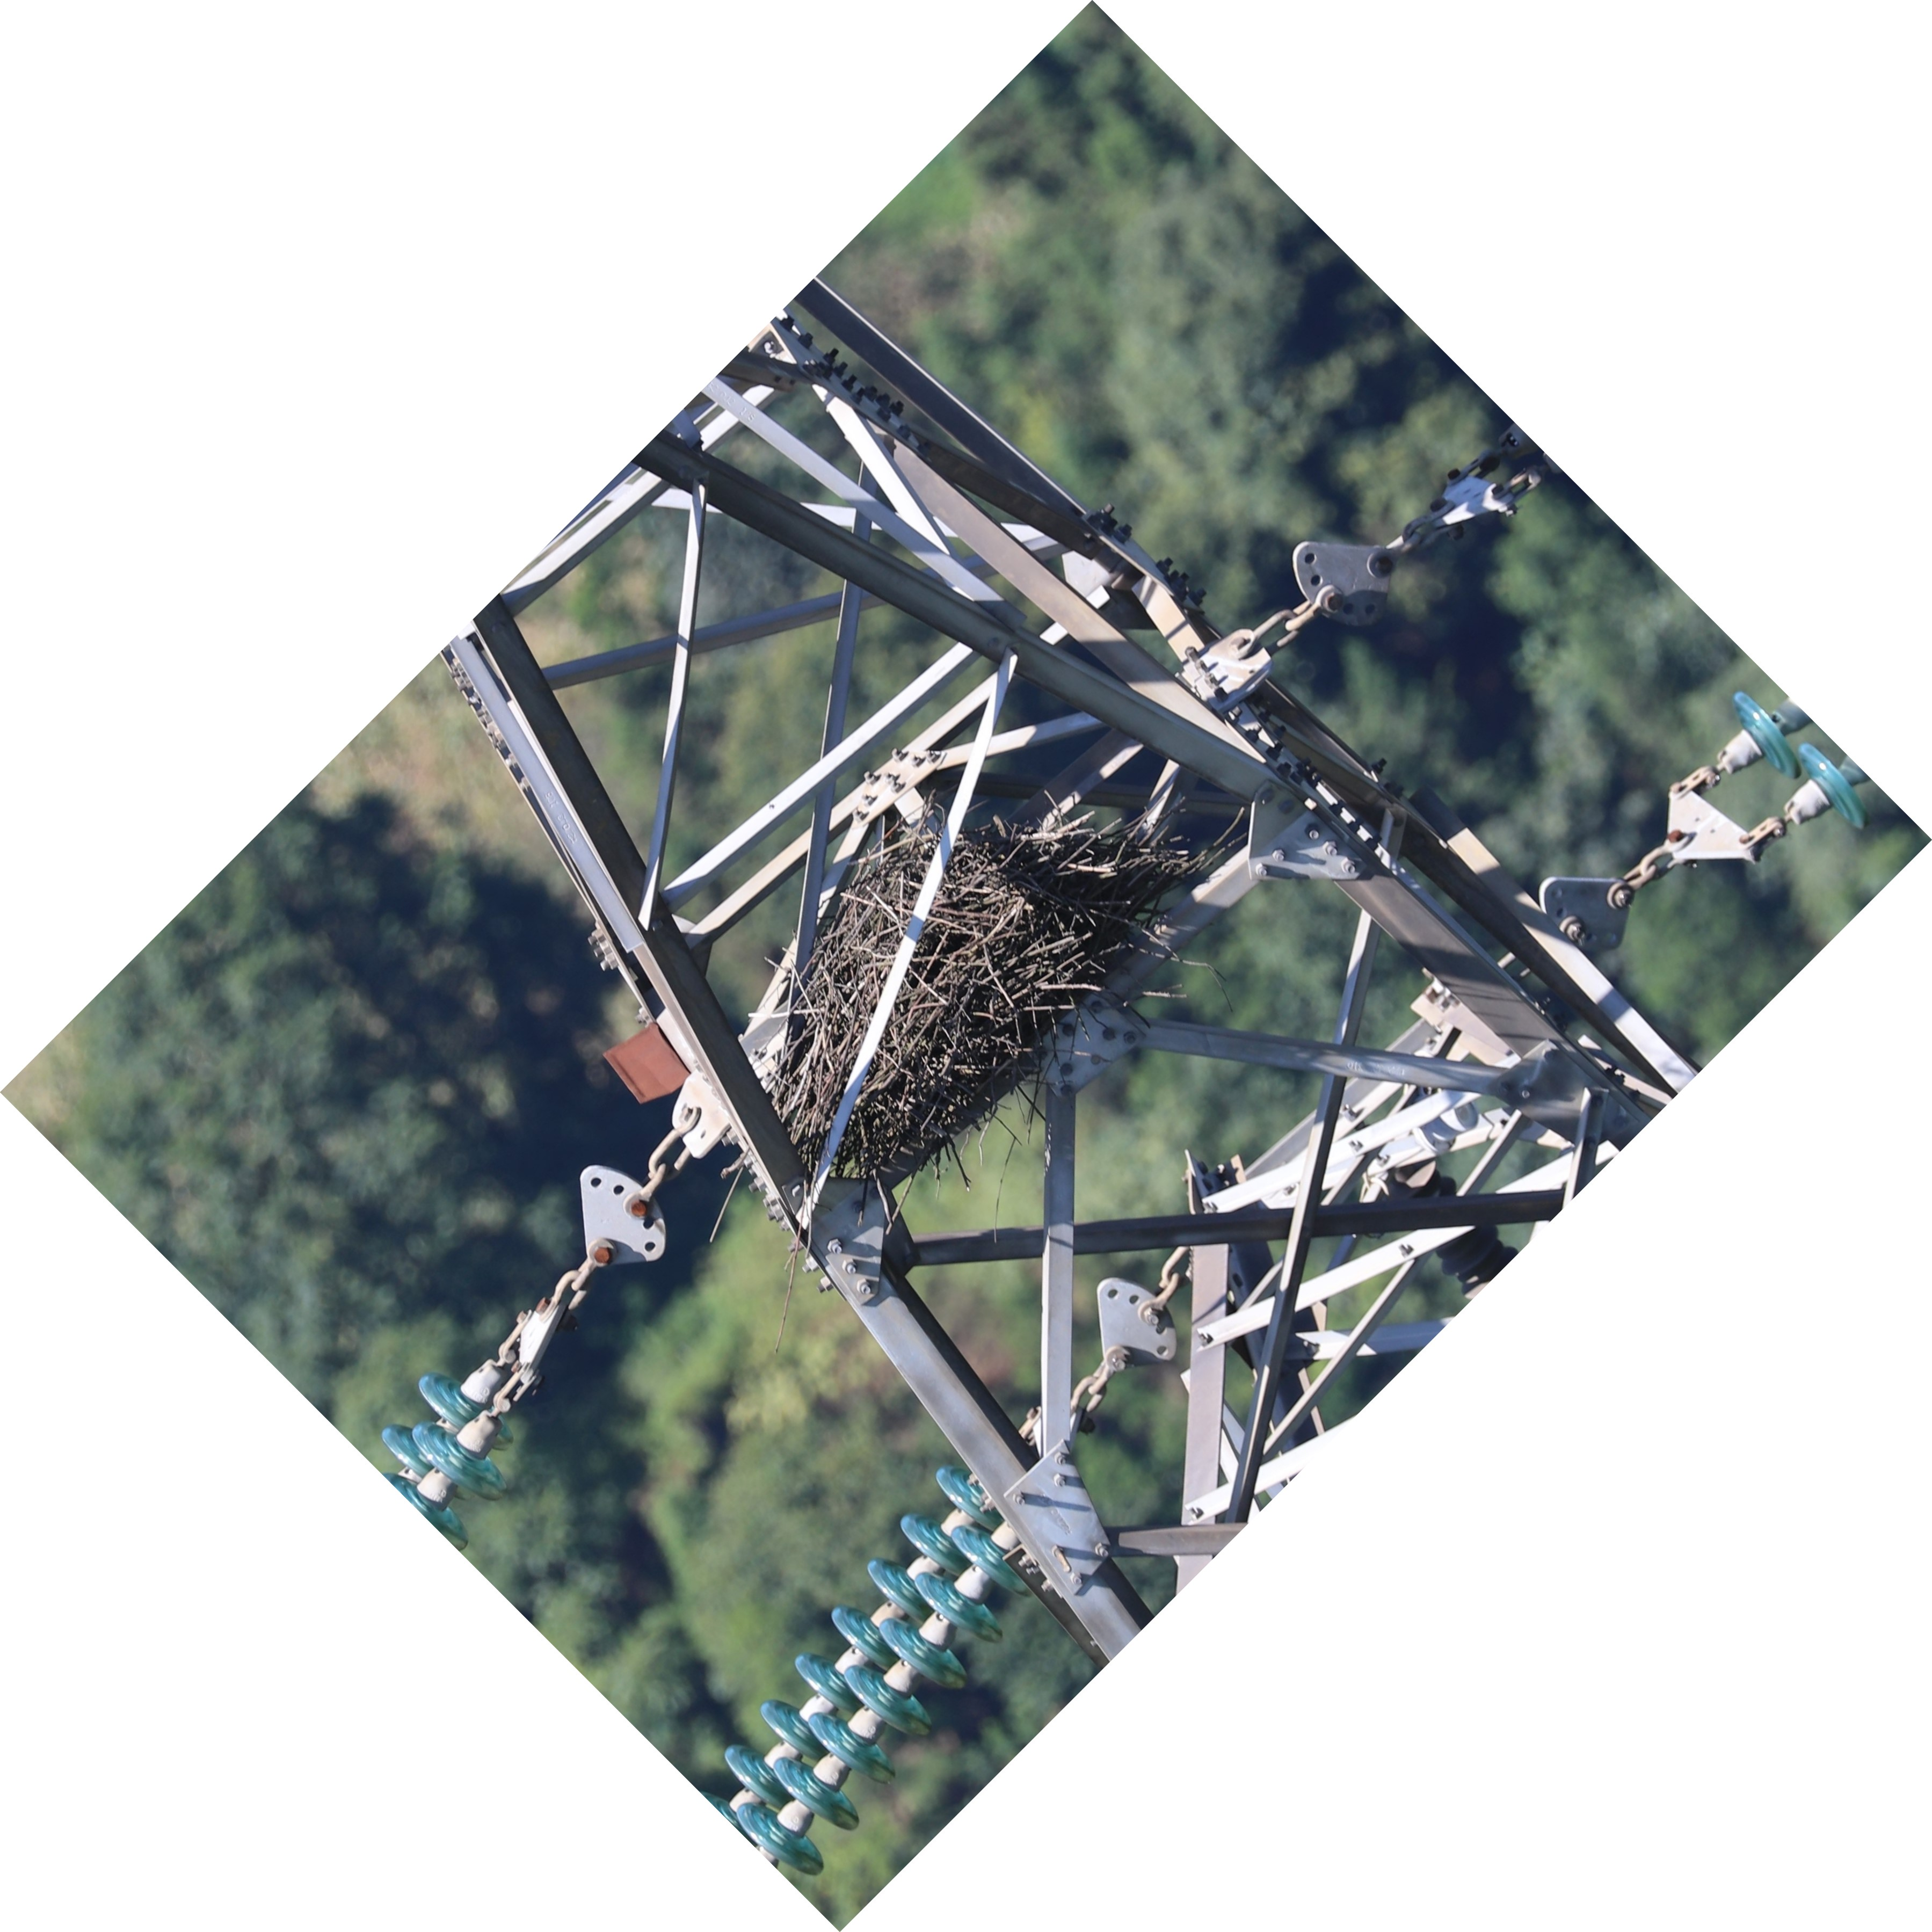niaowo: (741, 798, 1191, 1207)
